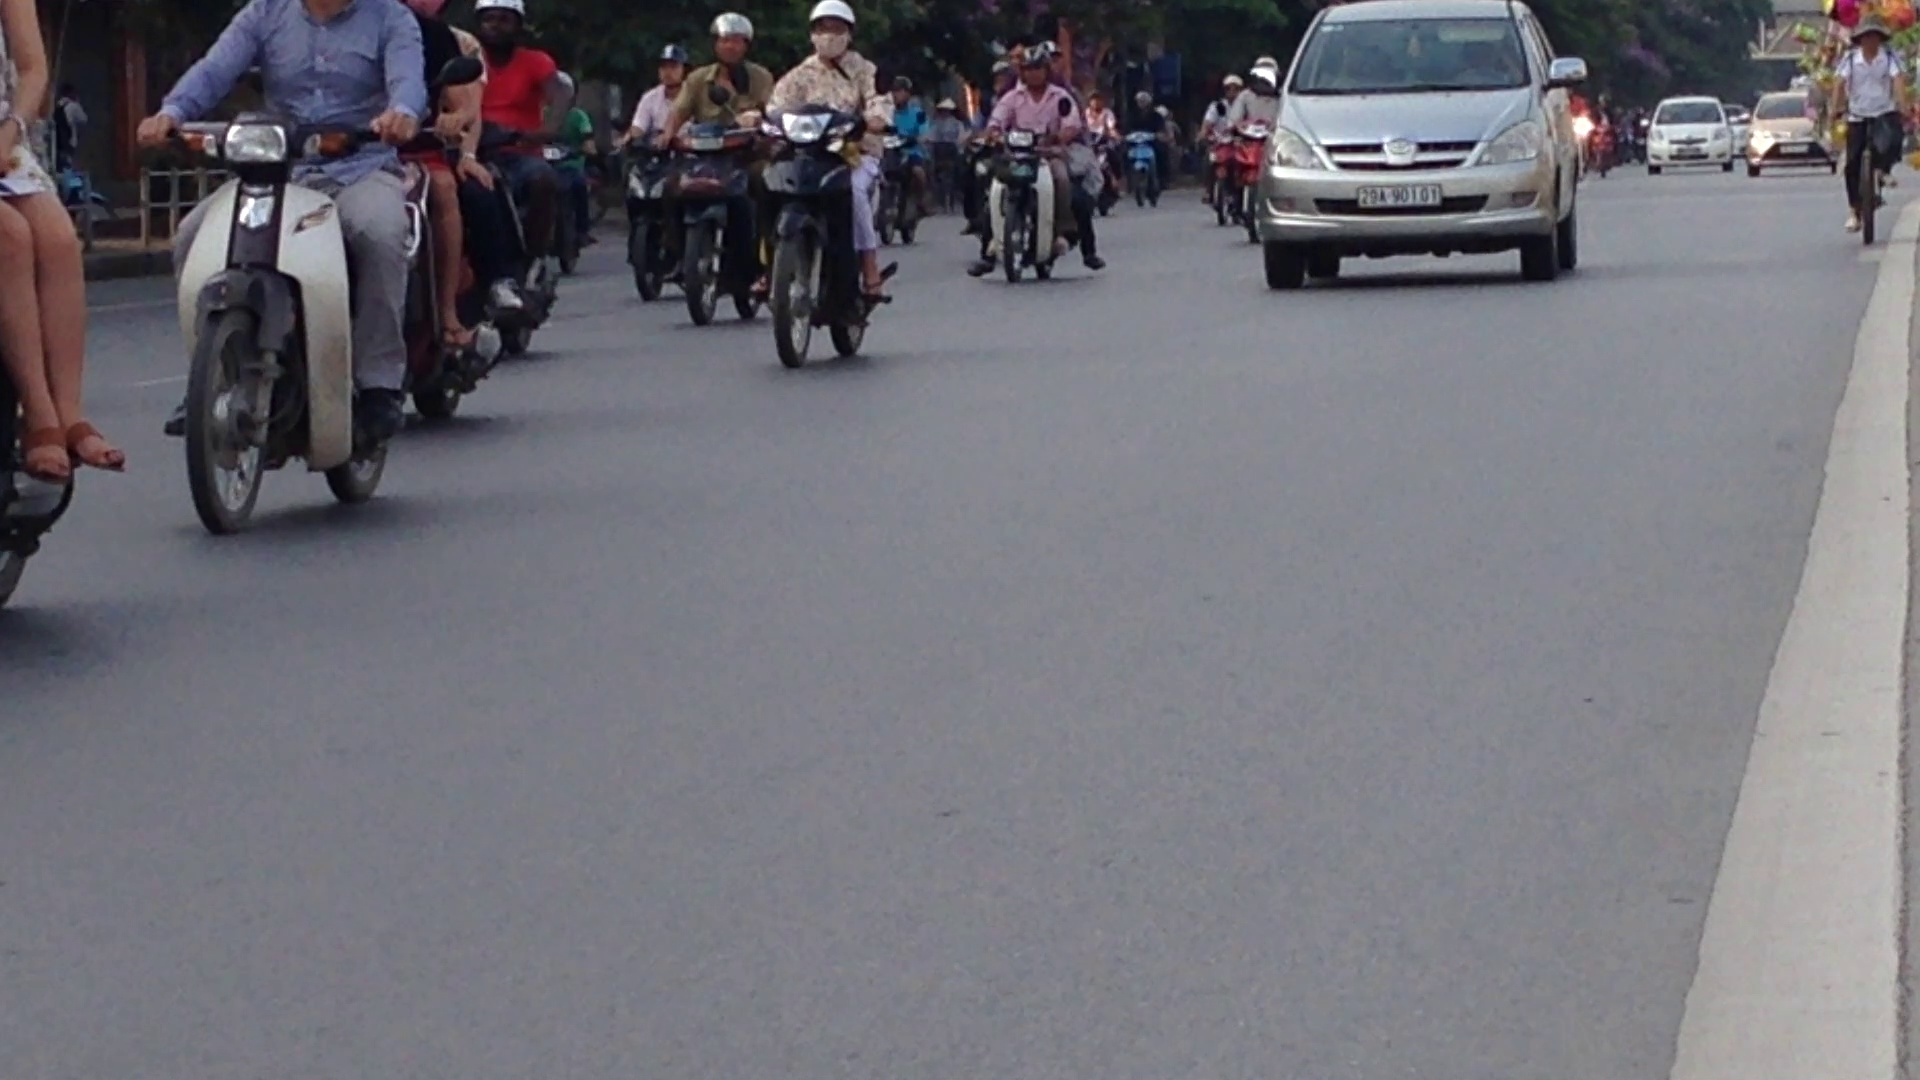person: (1354, 177, 1449, 211)
